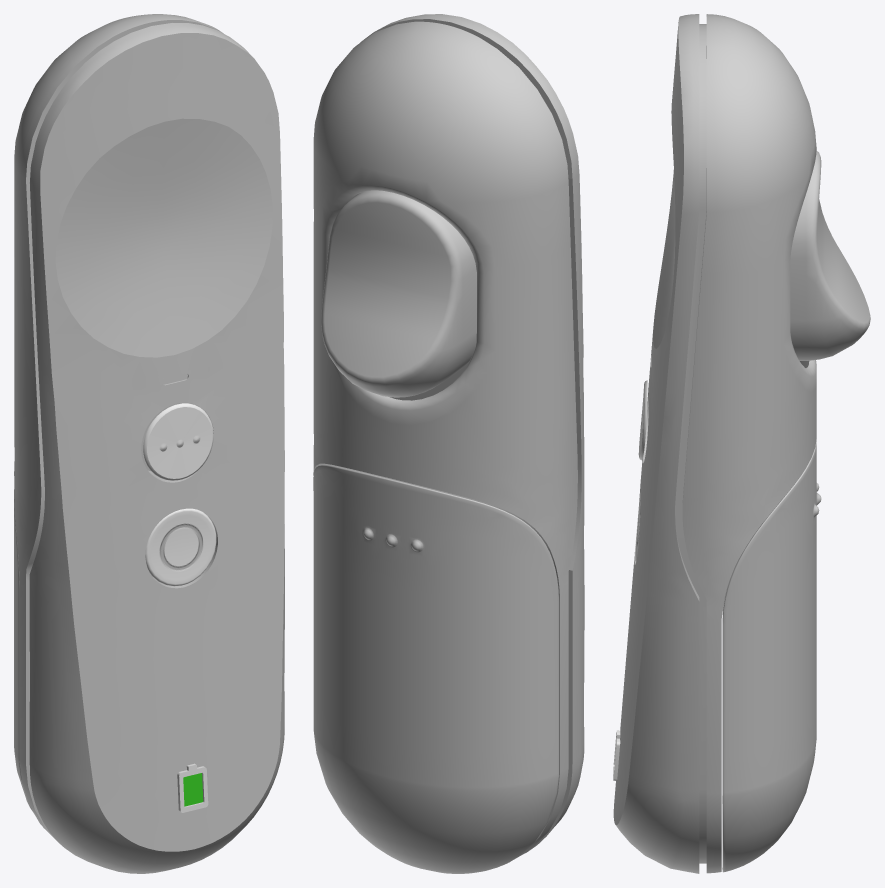
Rendered from handle_0806.FBX.
3 views of the same model, side by side, from view 1: azimuth 30°, elevation 25°; view 2: azimuth 150°, elevation 25°; view 3: azimuth 270°, elevation 25° (orthographic).
Visible parts, largest first — view 1: main, key_home, key_back, battery; view 2: main, key_trigger; view 3: main, key_trigger.
Part boxes in pixels (x1,y1,x2,y2): main: (14,14,284,873); key_home: (145,508,216,586); key_back: (143,403,213,480); battery: (177,763,208,812); main: (313,14,584,873); key_trigger: (321,190,476,397); main: (613,14,821,873); key_trigger: (790,151,870,360).
Bounding box in the file's own units: 37.01 × 122 × 34.12.
